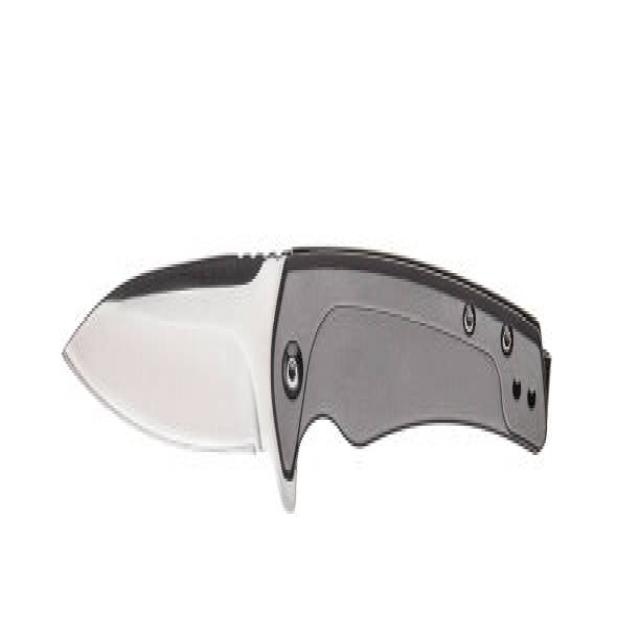knife: (59, 224, 557, 527)
